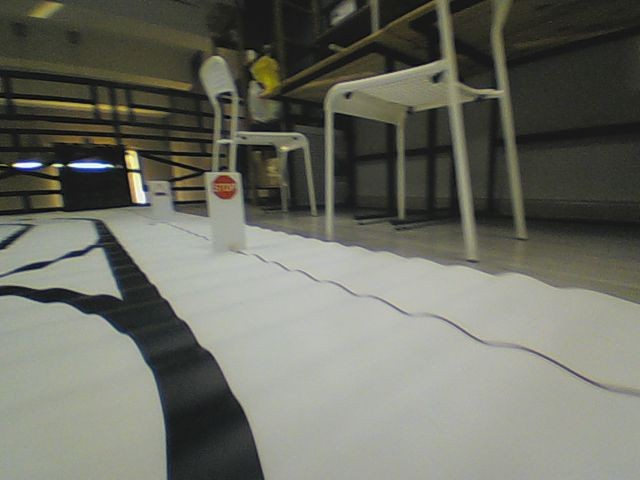Stop: (211, 174, 238, 200)
